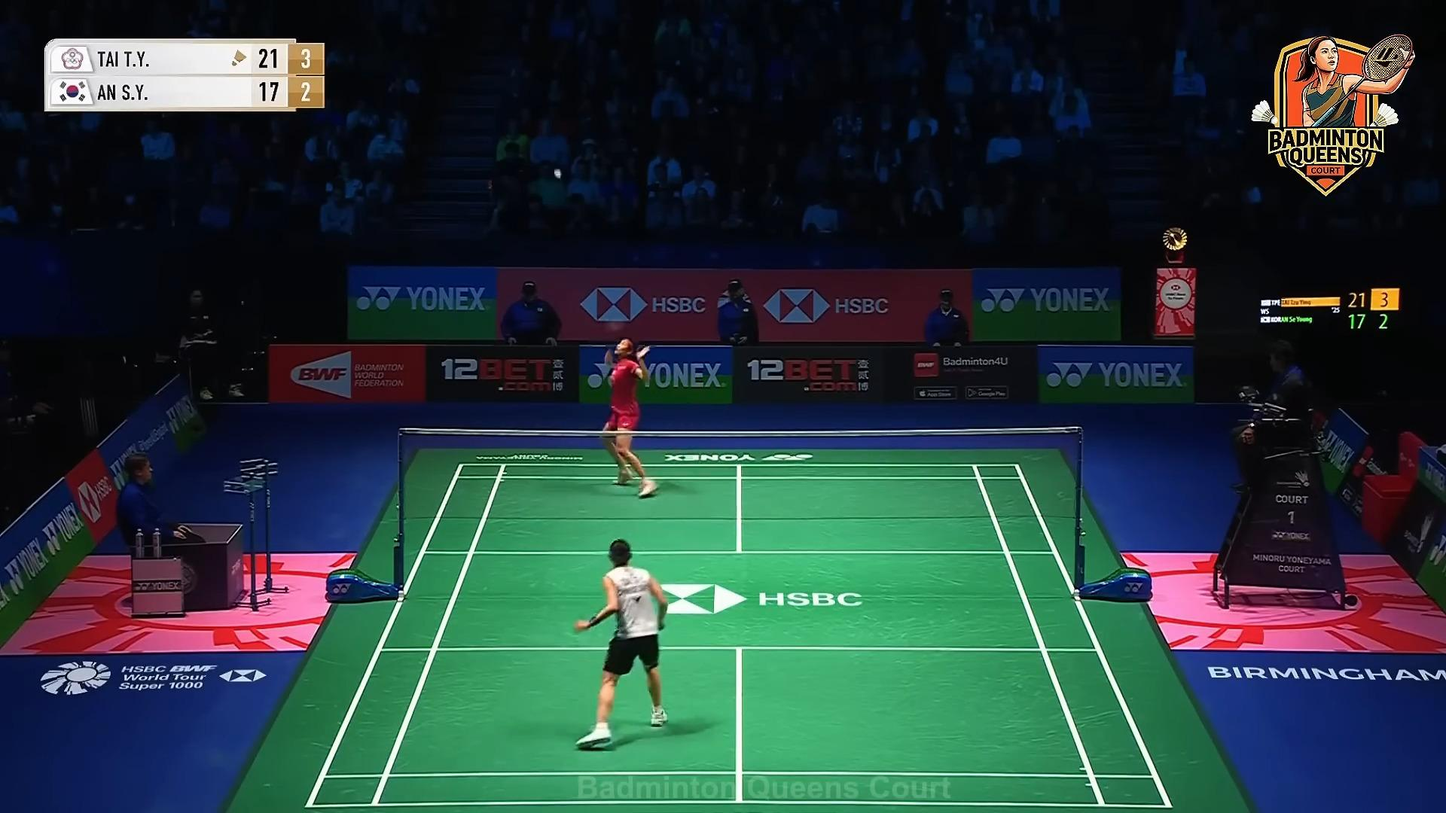shuttlecock: (554, 167, 563, 181)
